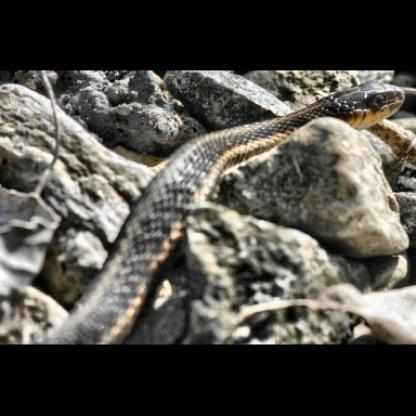Snake: (142, 64, 416, 241)
